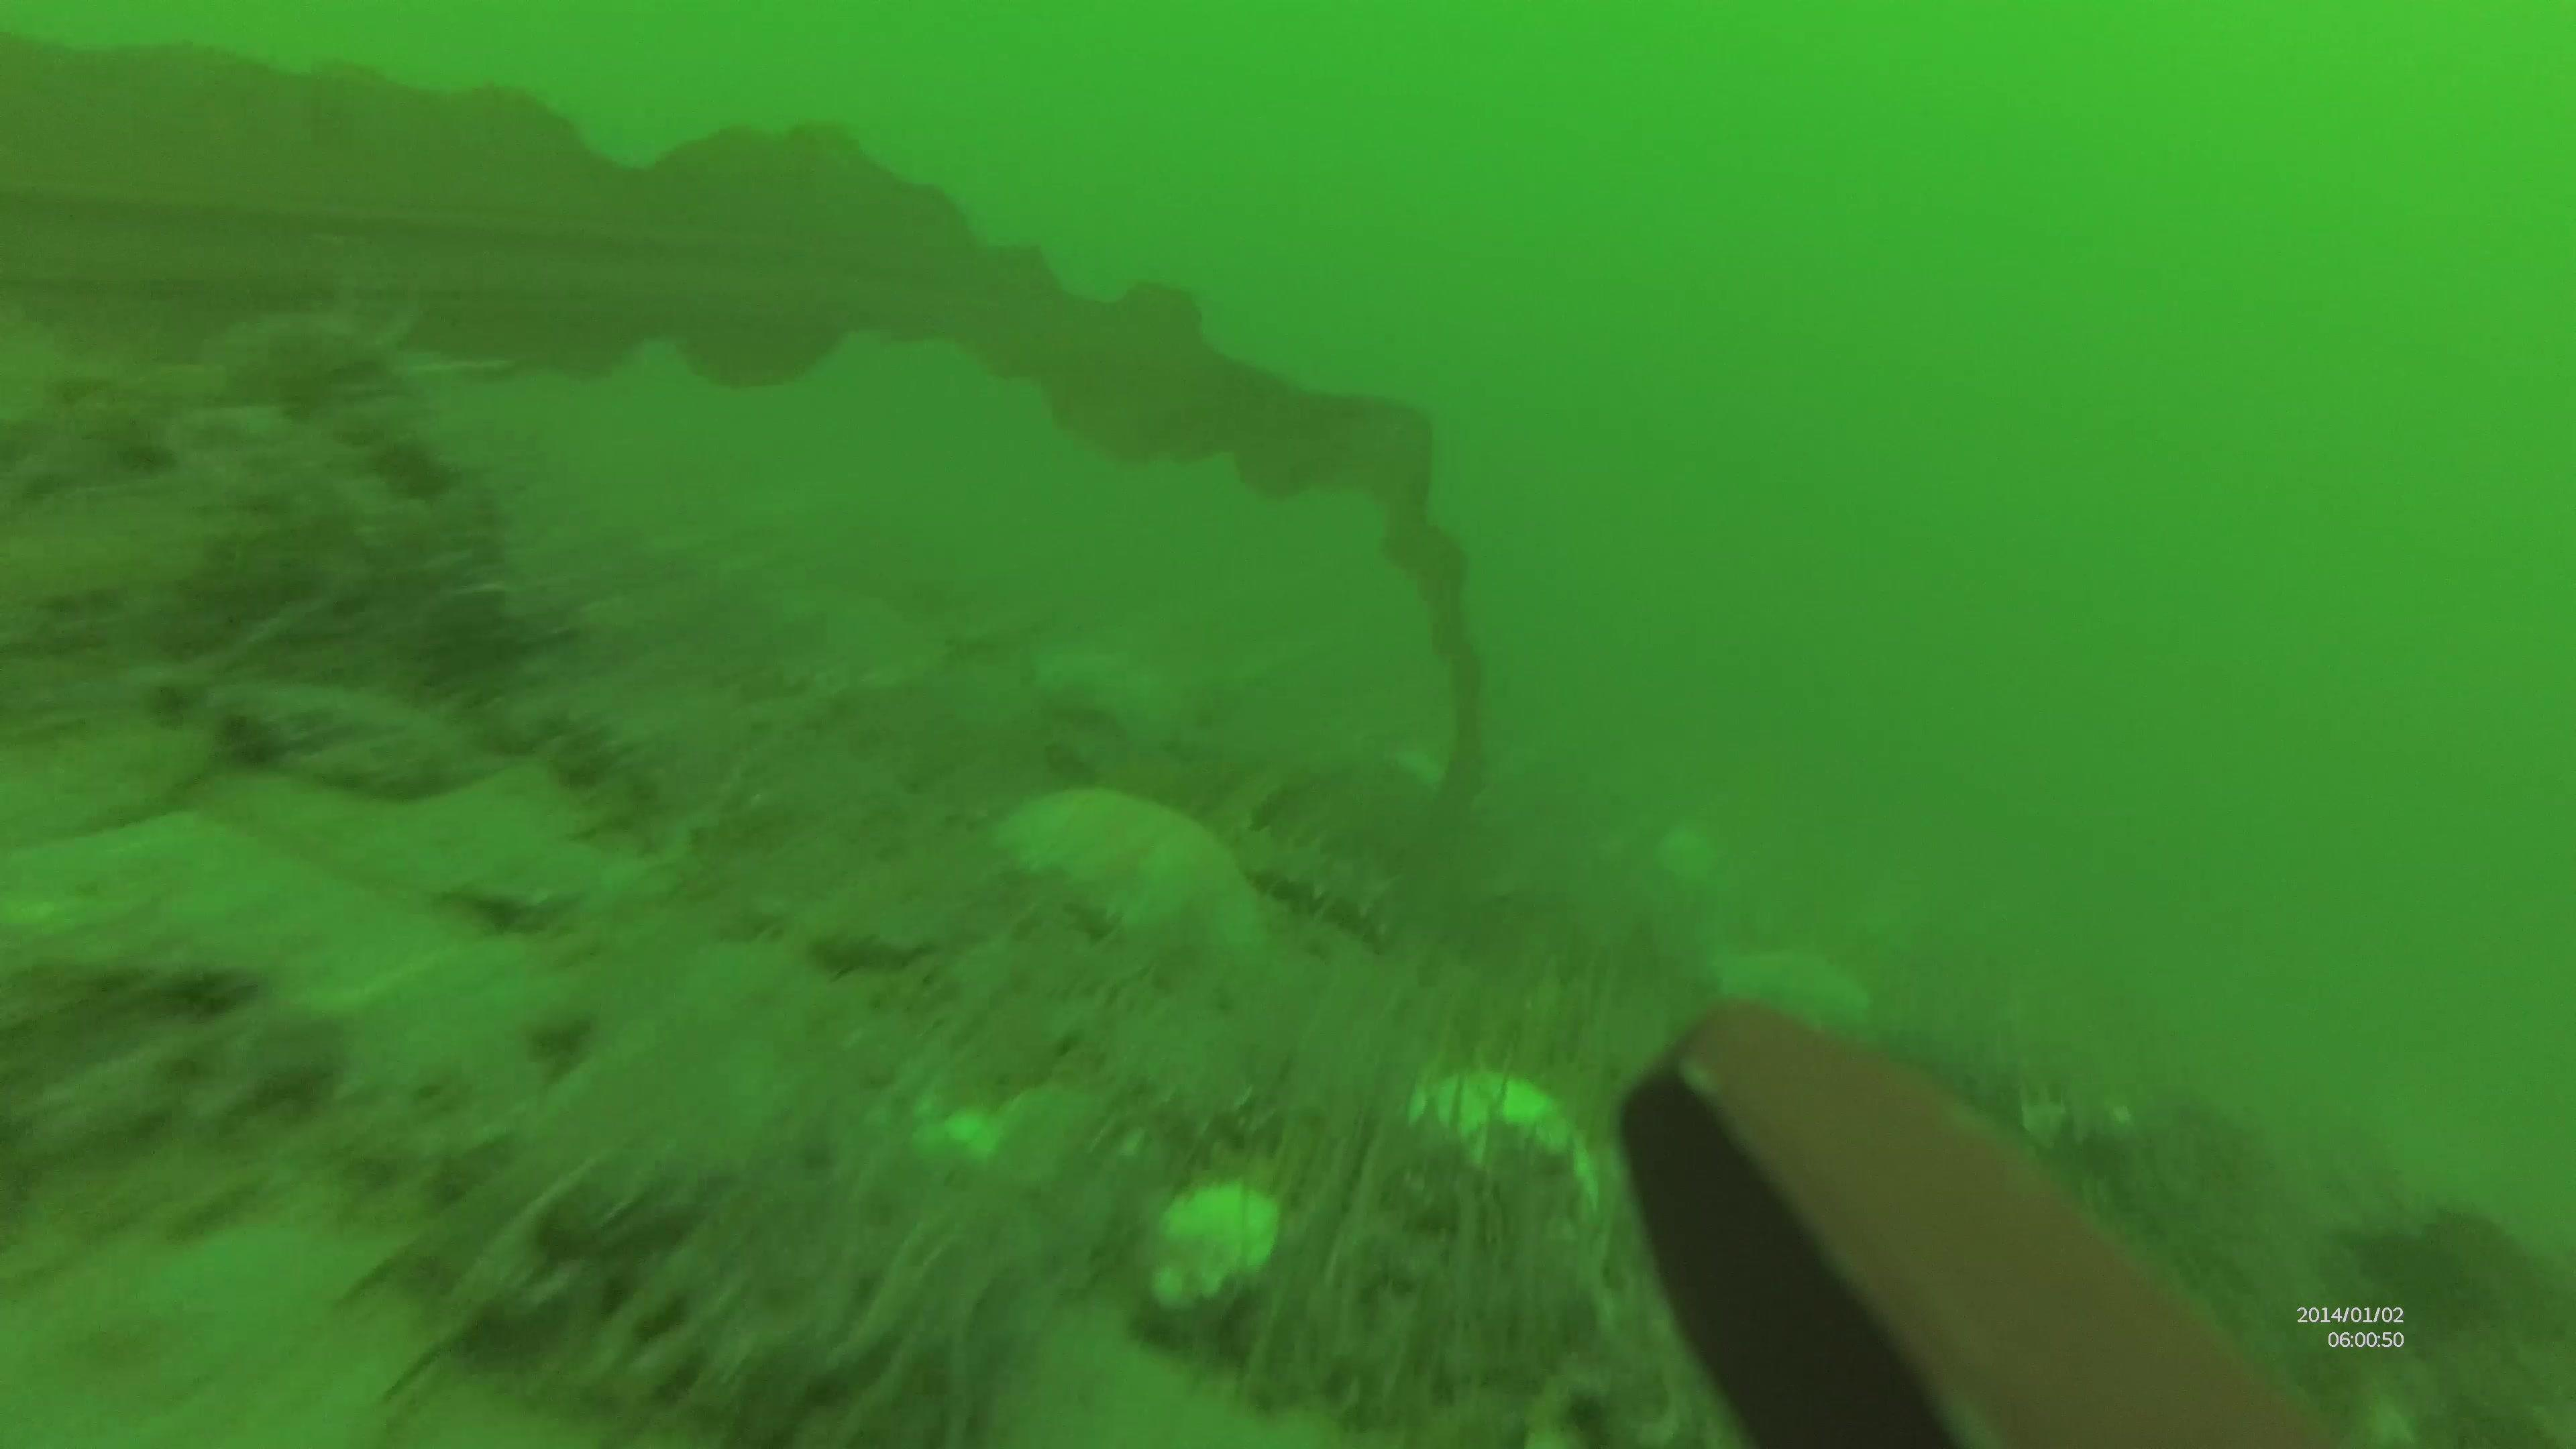holothurian: (1231, 826, 1407, 950)
starfish: (1012, 778, 1258, 985), (1021, 621, 1201, 761), (1713, 929, 1877, 1047)
